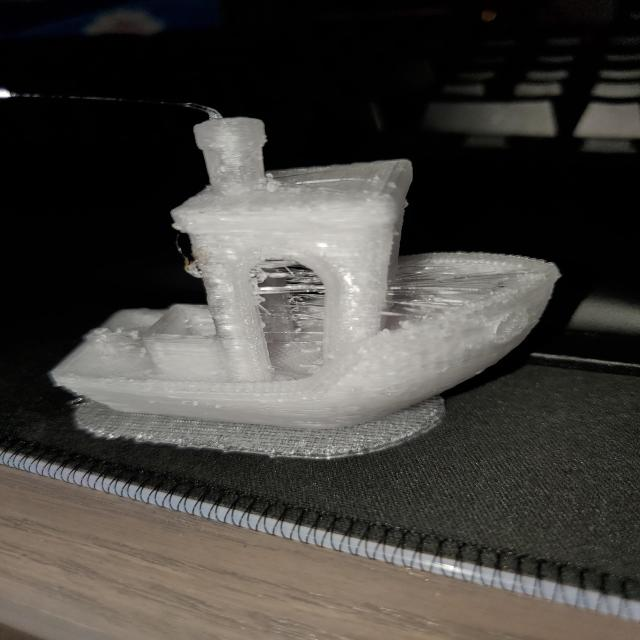stringing: (263, 272, 329, 347), (396, 281, 502, 321)
